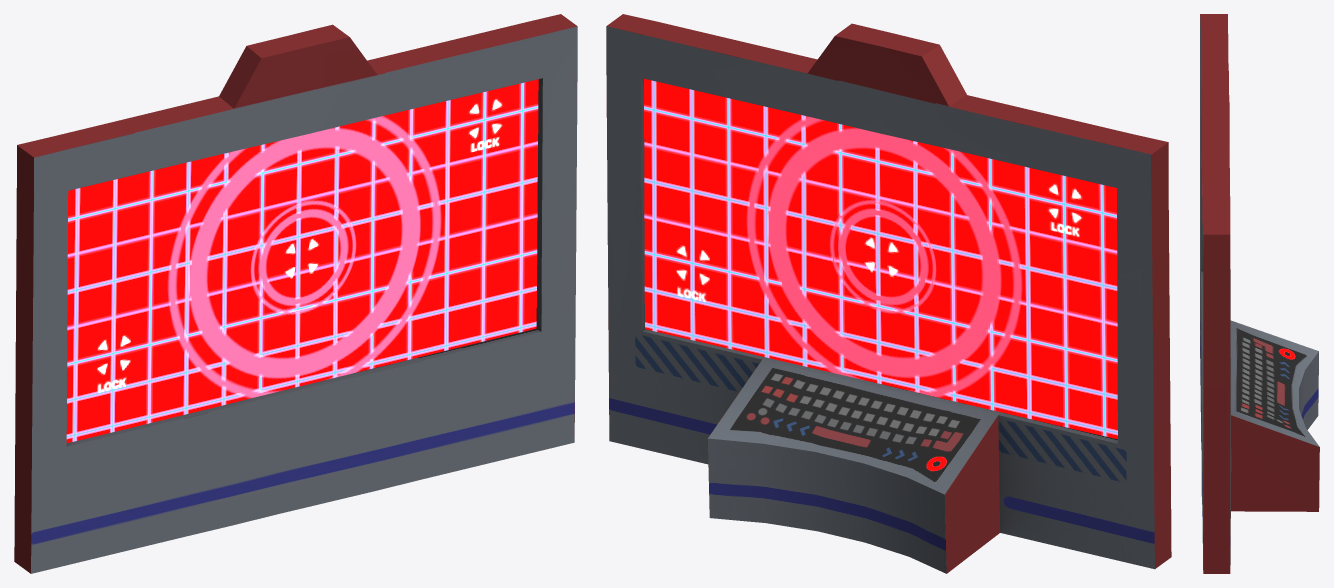
File: FUT0510012.fbx
3 views of the same model, side by side, from view 1: azimuth 30°, elevation 25°; view 2: azimuth 150°, elevation 25°; view 3: azimuth 270°, elevation 25° (orthographic). The views are drawn at different scales.
Visible parts, largest first — view 1: smFUT0510012; view 2: smFUT0510012; view 3: smFUT0510012.
Part boxes in pixels (left/top/right/bottom): smFUT0510012: left=14, top=14, right=577, bottom=573; smFUT0510012: left=606, top=14, right=1171, bottom=573; smFUT0510012: left=1200, top=14, right=1319, bottom=573.
Size of the model in its own units: 429 by 345 by 99.08.
Materials: 1 (1 with a texture image).
